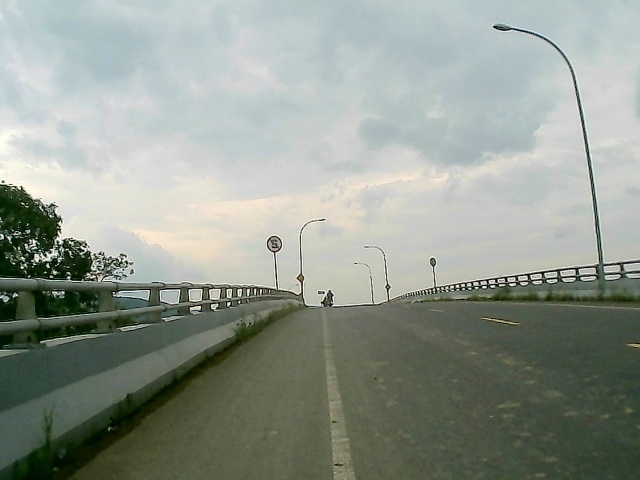Dilarang berhenti: (264, 233, 283, 256)
